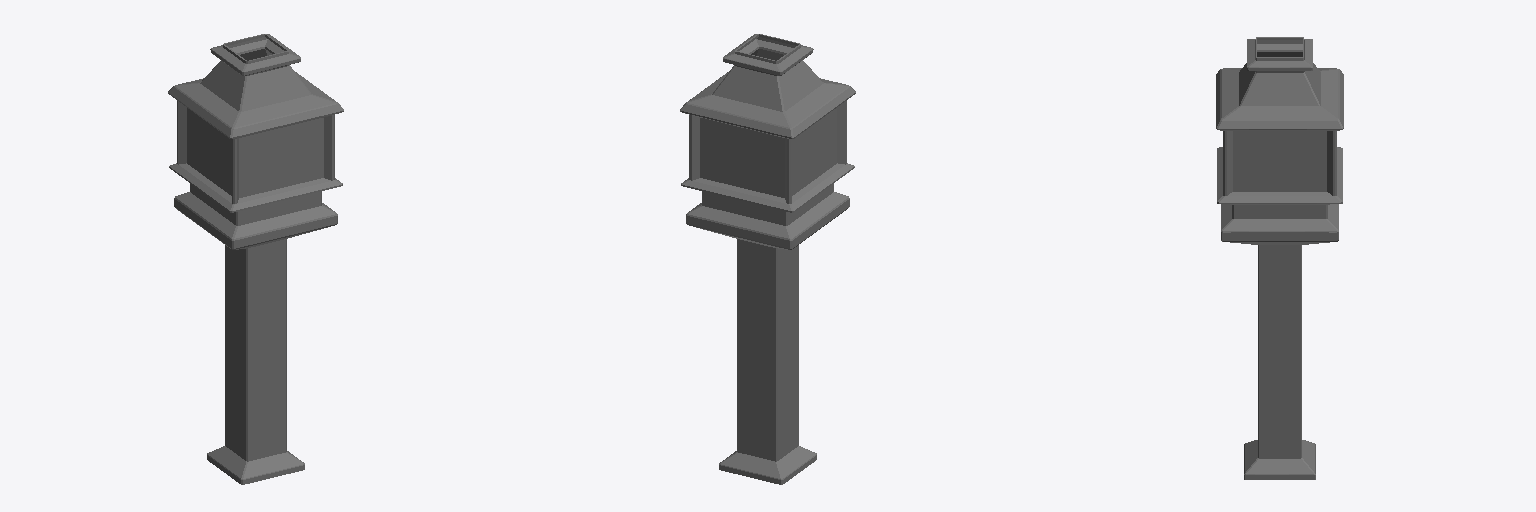
Rendered from Lamp_stone.obj.
3 renders of one model, left to right at view 1: azimuth 30°, elevation 25°; view 2: azimuth 150°, elevation 25°; view 3: azimuth 270°, elevation 25°, orthographic.
Parts seen in each view (by area): view 1: Lamp_stone; view 2: Lamp_stone; view 3: Lamp_stone.
Boxes of the visible parts, x1,y1,x2,y2 form: Lamp_stone: [168, 34, 343, 484]; Lamp_stone: [680, 34, 855, 484]; Lamp_stone: [1216, 37, 1343, 479].
Size of the model in its own units: 84.65 by 295 by 81.64.